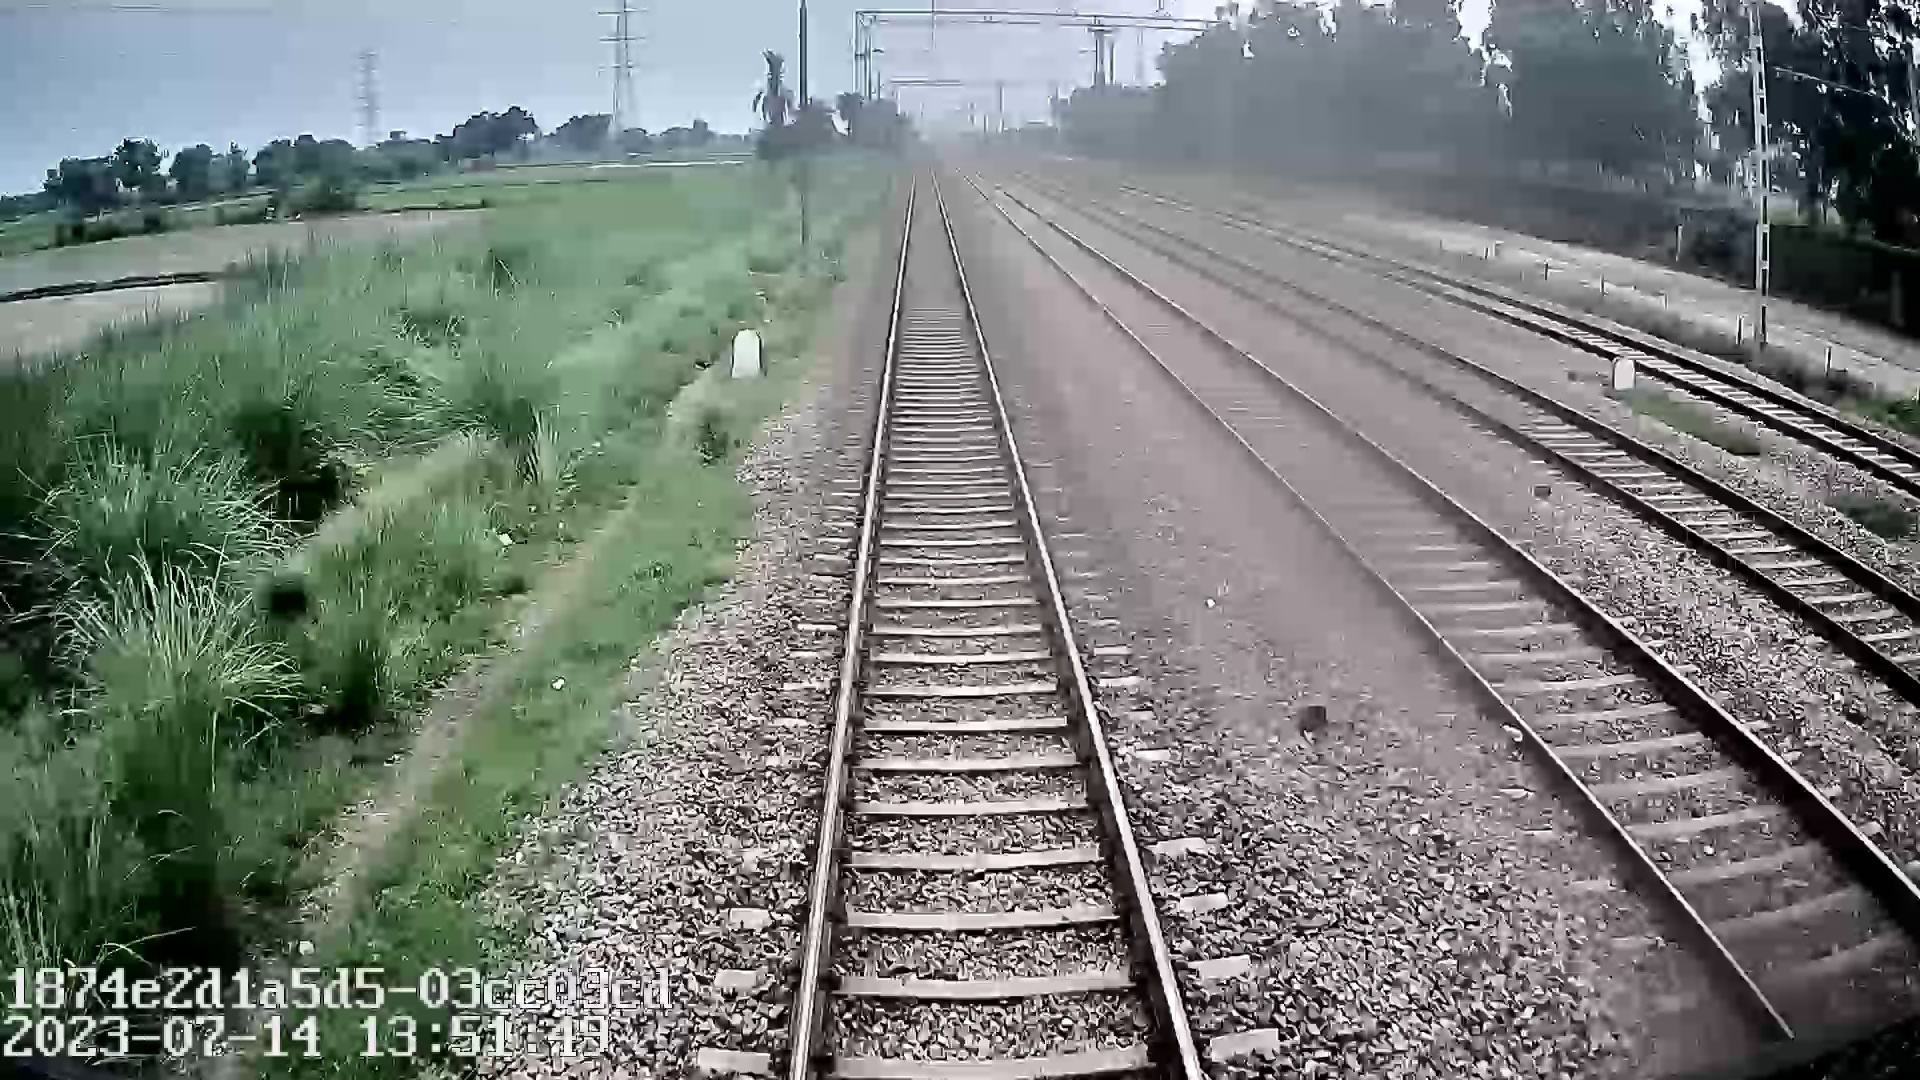track1: (796, 227, 1187, 1055)
track2: (1011, 225, 1903, 1027)
track3: (1167, 249, 1911, 661)
track4: (1316, 251, 1911, 480)
